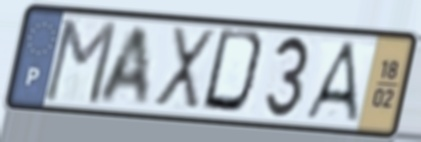3: (259, 32, 313, 123)
A: (301, 39, 362, 126), (95, 24, 151, 107)
D: (198, 26, 271, 120)
M: (40, 16, 121, 108)
X: (150, 23, 218, 115)
